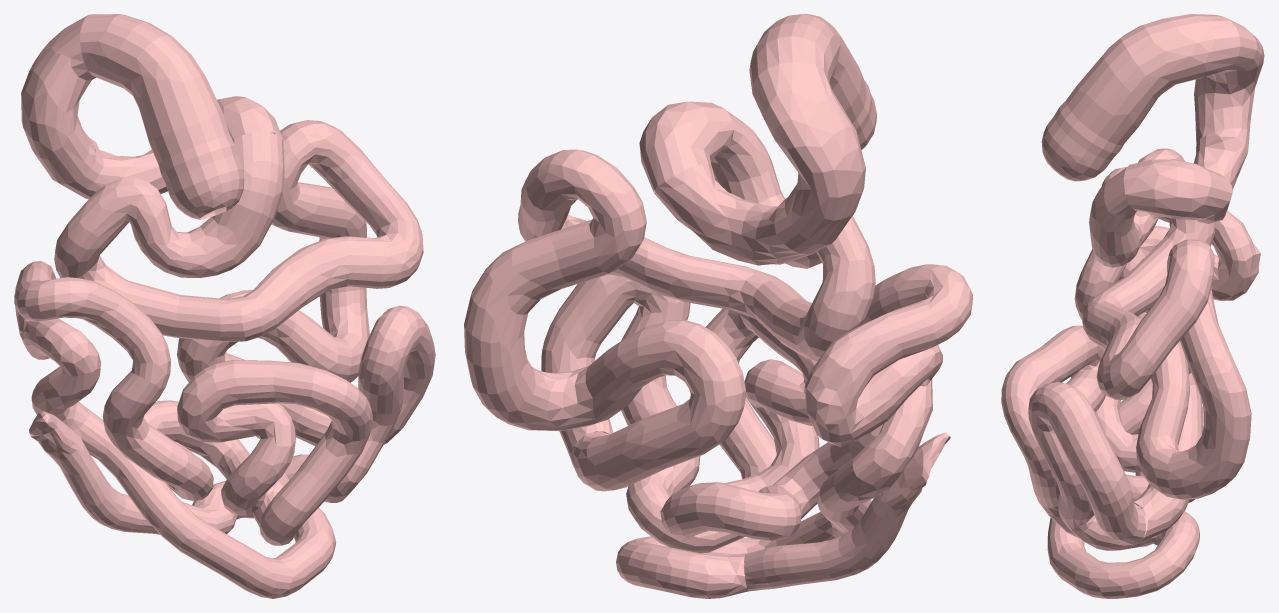
File: VH_F_Small_Intestine_0.4.glb
The picture shows the model from 3 angles, left to right: view 1: azimuth 30°, elevation 25°; view 2: azimuth 150°, elevation 25°; view 3: azimuth 270°, elevation 25°; orthographic projection. The views are drawn at different scales.
Parts seen in each view (by area): view 1: VH_F_ileum, VH_F_jejenum, VH_F_duodenum_superior, VH_F_duodenum_descending, VH_F_ileum_terminal, VH_F_duodenal_ampulla, VH_F_duodenum_horizontal, VH_F_duodenum_ascending; view 2: VH_F_ileum, VH_F_jejenum, VH_F_duodenum_descending, VH_F_ileum_terminal, VH_F_duodenum_horizontal, VH_F_duodenum_superior, VH_F_duodenum_ascending; view 3: VH_F_jejenum, VH_F_ileum, VH_F_duodenum_superior, VH_F_duodenum_ascending, VH_F_duodenum_descending, VH_F_duodenal_ampulla, VH_F_duodenum_horizontal.
Part boxes in pixels (x1,y1,x2,y2): VH_F_ileum: (14,261,435,598); VH_F_jejenum: (54,120,423,446); VH_F_duodenum_superior: (80,14,234,173); VH_F_duodenum_descending: (21,15,96,183); VH_F_ileum_terminal: (29,411,217,534); VH_F_duodenal_ampulla: (161,145,244,219); VH_F_duodenum_horizontal: (59,137,167,199); VH_F_duodenum_ascending: (217,96,283,140); VH_F_ileum: (541,264,972,598); VH_F_jejenum: (464,106,875,491); VH_F_duodenum_descending: (752,62,865,244); VH_F_ileum_terminal: (744,432,950,591); VH_F_duodenum_horizontal: (654,163,830,265); VH_F_duodenum_superior: (749,14,870,129); VH_F_duodenum_ascending: (639,101,733,192); VH_F_jejenum: (1082,148,1251,543); VH_F_ileum: (1001,166,1260,598); VH_F_duodenum_superior: (1059,14,1240,153); VH_F_duodenum_ascending: (1123,159,1232,219); VH_F_duodenum_descending: (1194,17,1264,141); VH_F_duodenal_ampulla: (1041,107,1119,181); VH_F_duodenum_horizontal: (1193,128,1249,223).
Bounding box in the file's own units: 0.1615 × 0.2172 × 0.1002.
